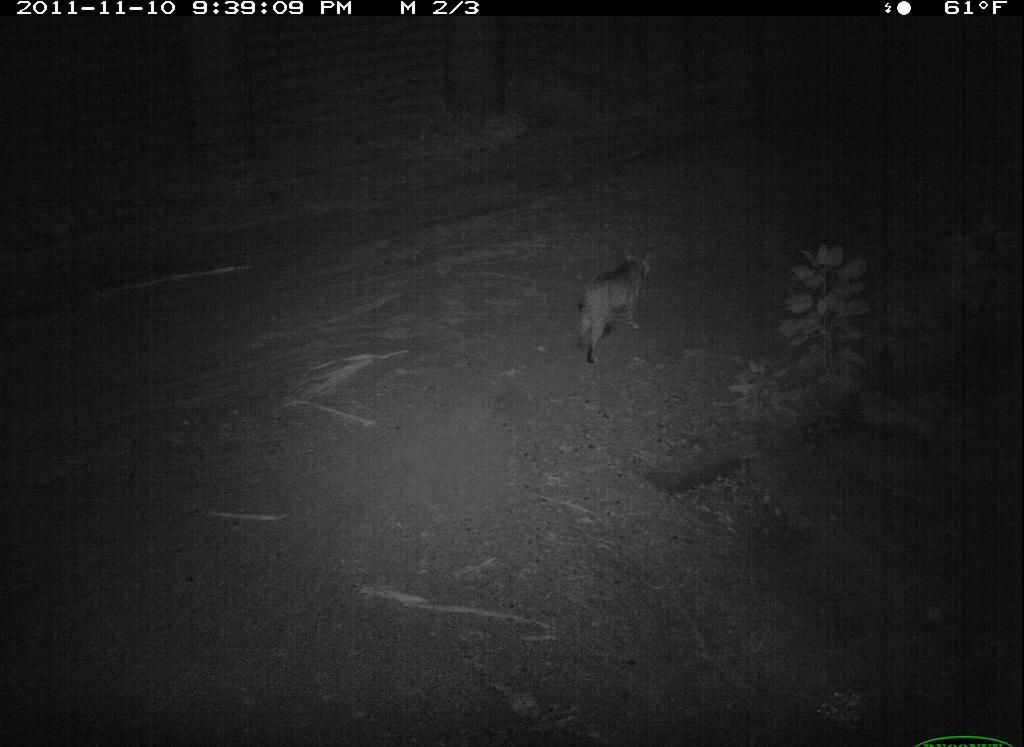bobcat: (565, 239, 662, 368)
